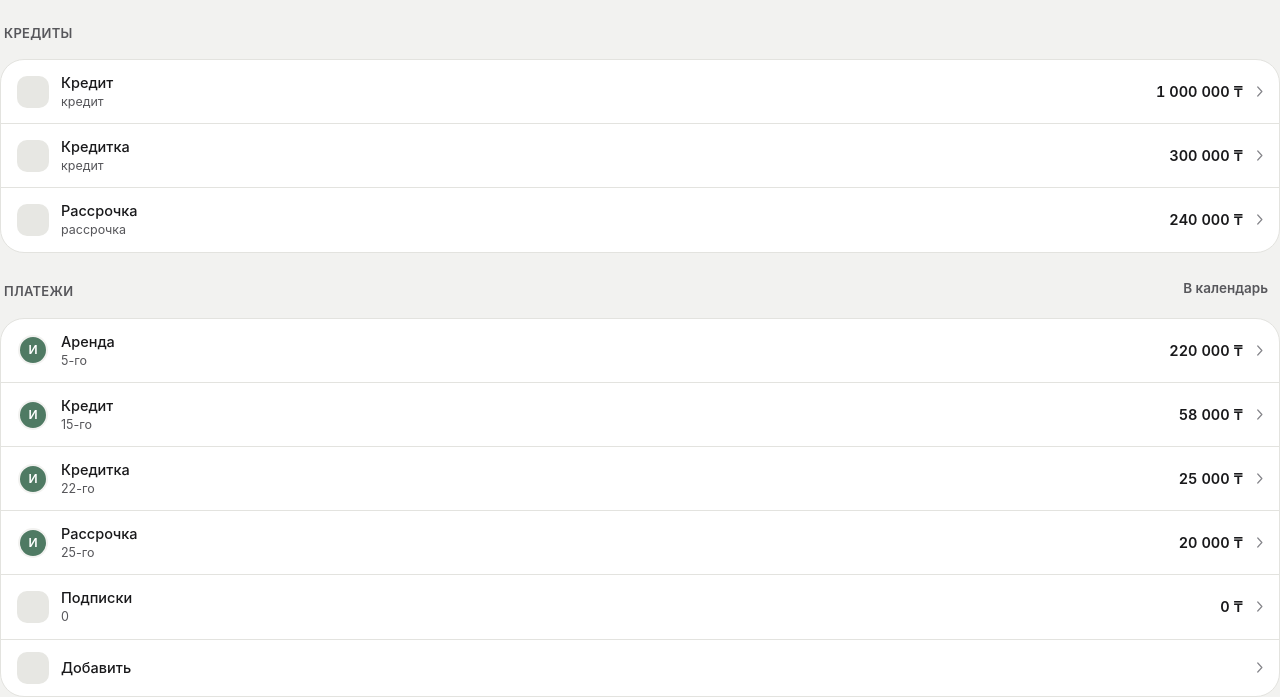
Test: Критик Блока 5: «Готово» в окнах Капитала — через close() кита › группа подписок (лист из «Платежей»): «Название» и «Готово» — записано, окно закрыто
(page scrolled)
Step 1. Click the button "Подписки 0 0 ₸" → click(33, 607), box [1,575,1279,638]
(page scrolled)
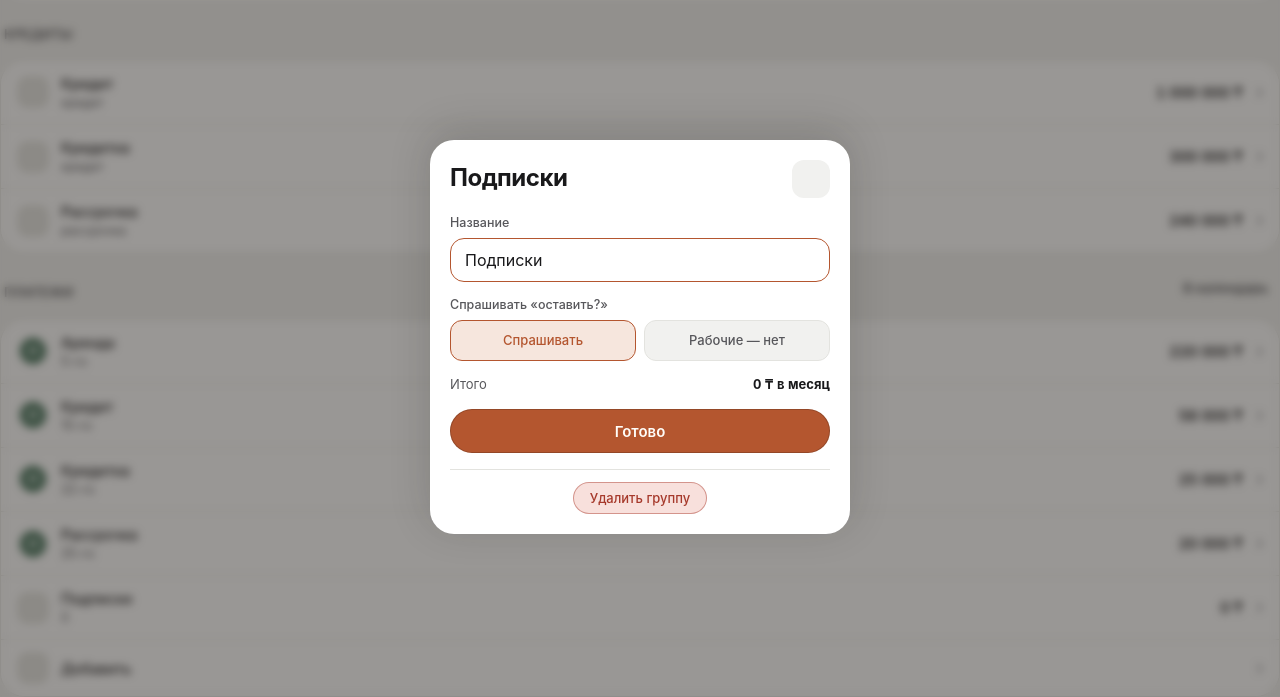
expect the dialog shows "Спрашивать «оставить?»": met, box [450,297,608,312]
Step 2. Replace the text in the field labelled "Название" with "Сервисы" → (640, 260), box [450,238,830,282]
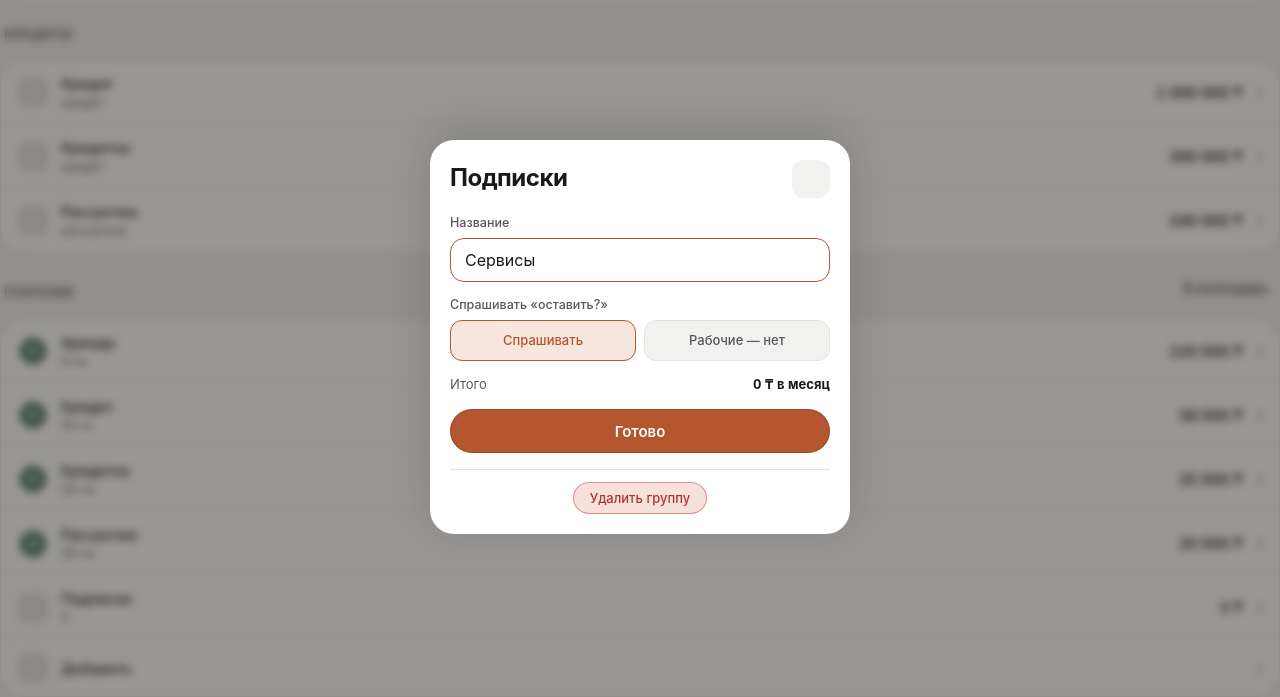
Step 3. Click the button "Готово" → click(640, 432), box [450,410,830,454]
(page scrolled)
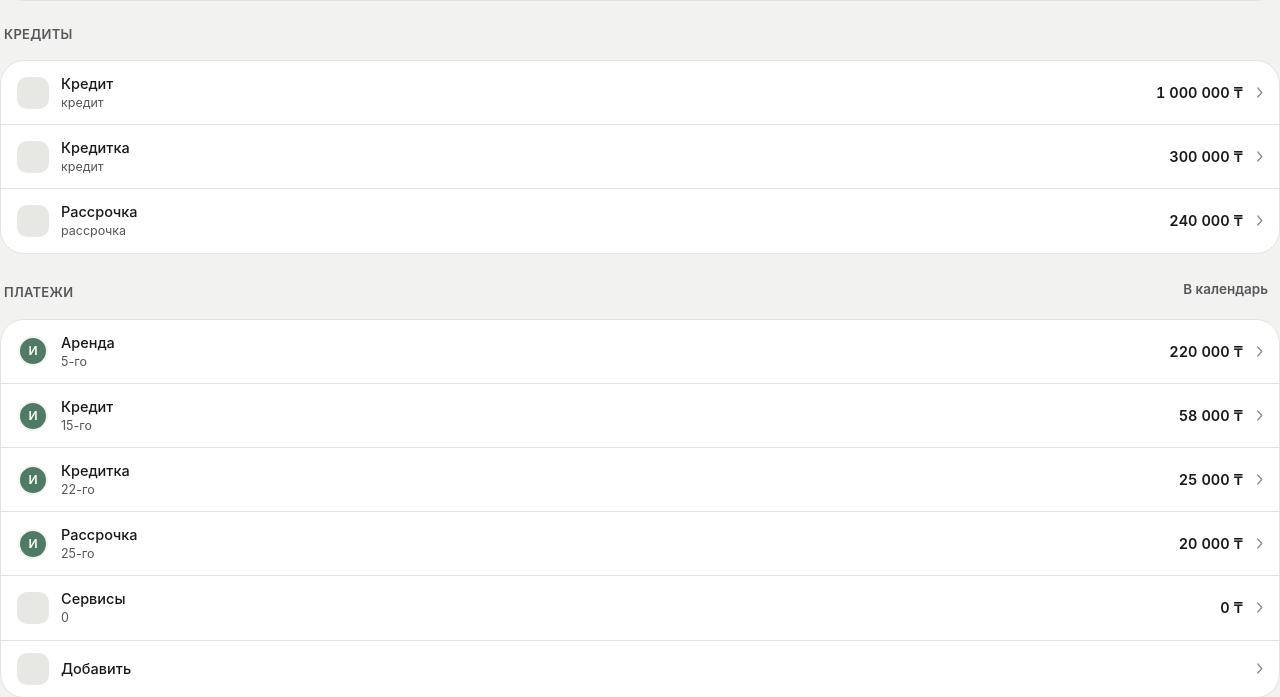
expect the dialog is gone: met
expect the text "Сервисы" is shown: met, box [61,590,126,607]
